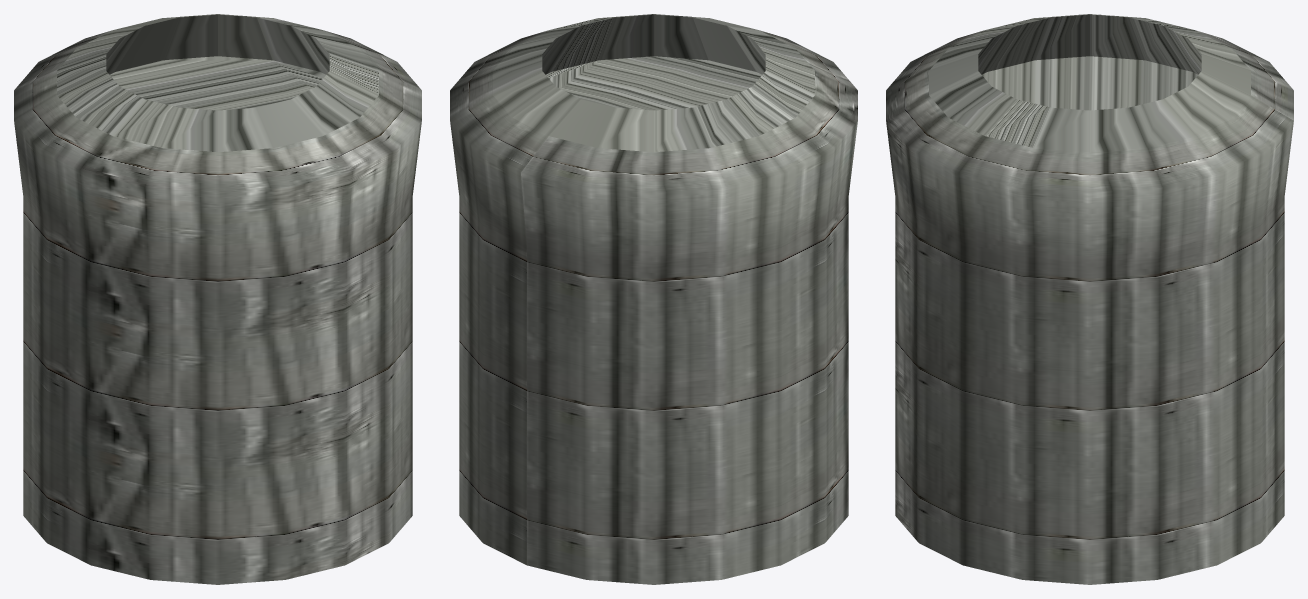
Rendered from Trashbin.fbx.
3 views of the same model, side by side, from view 1: azimuth 30°, elevation 25°; view 2: azimuth 150°, elevation 25°; view 3: azimuth 270°, elevation 25° (orthographic).
Parts seen in each view (by area): view 1: Cylinder001; view 2: Cylinder001; view 3: Cylinder001.
Boxes of the visible parts, x1,y1,x2,y2 form: Cylinder001: (14, 14, 421, 584); Cylinder001: (450, 14, 857, 584); Cylinder001: (886, 14, 1293, 584).
Size of the model in its own units: 62.9 by 73.55 by 61.95.
Materials: 1 (1 with a texture image).
